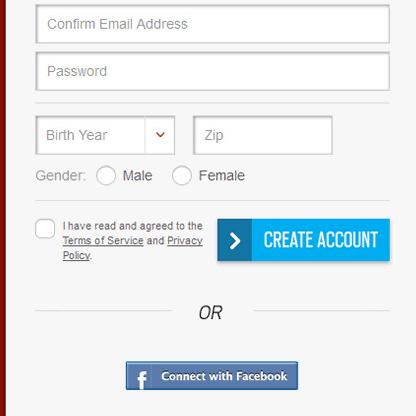button: (216, 218, 390, 262), (124, 360, 299, 391)
checkbox: (35, 217, 58, 242)
checkbox_with_label: (32, 213, 207, 248)
field: (35, 4, 391, 45), (35, 52, 391, 92), (35, 115, 177, 156), (193, 115, 334, 156)
radio: (172, 165, 194, 185), (95, 165, 115, 185)
radio_with_label: (35, 161, 118, 188), (169, 162, 246, 188), (90, 161, 154, 188)
